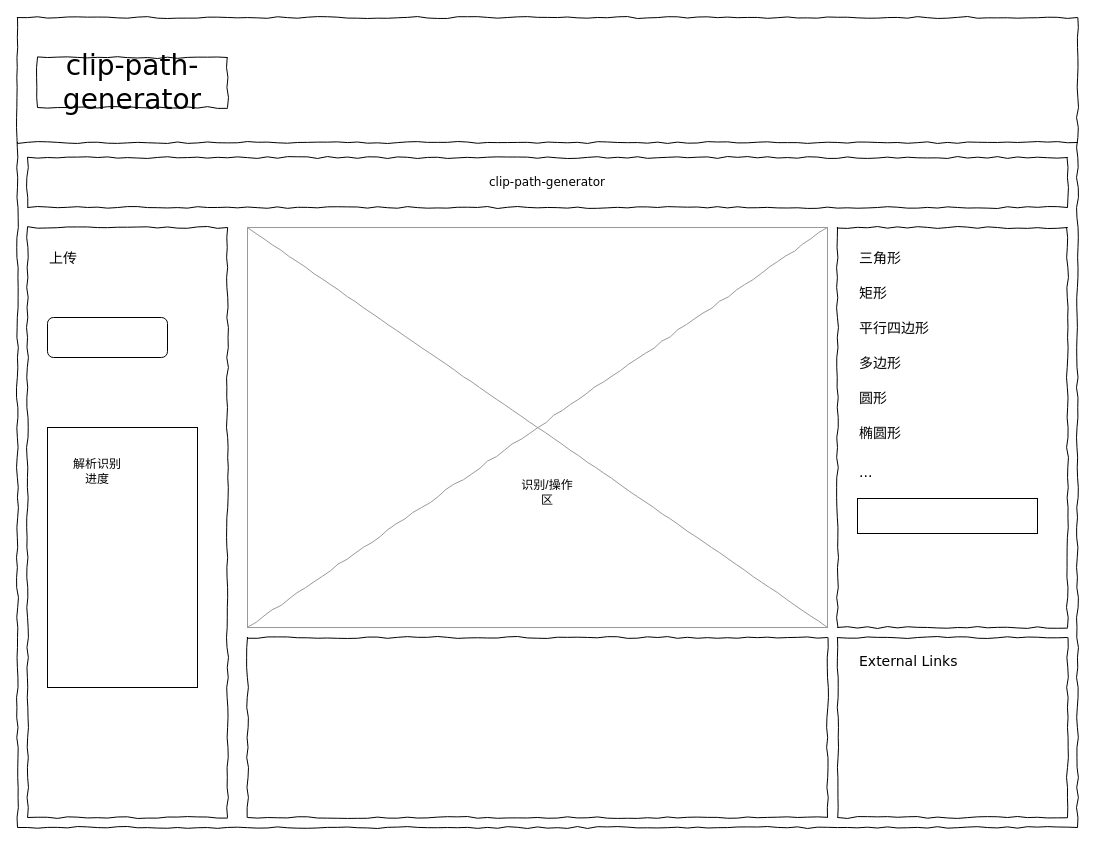
Image size: 1095x845. Some labels were removed from this diagram. Each missing label, with the centre of its shape:
"导入图形" belongs at (107,337).
"生成代码：clip-path: polygon( 50% 0% , 0% 100% , 100% 100% ) ;" belongs at (537,727).
"选择尺寸" belongs at (947,516).
